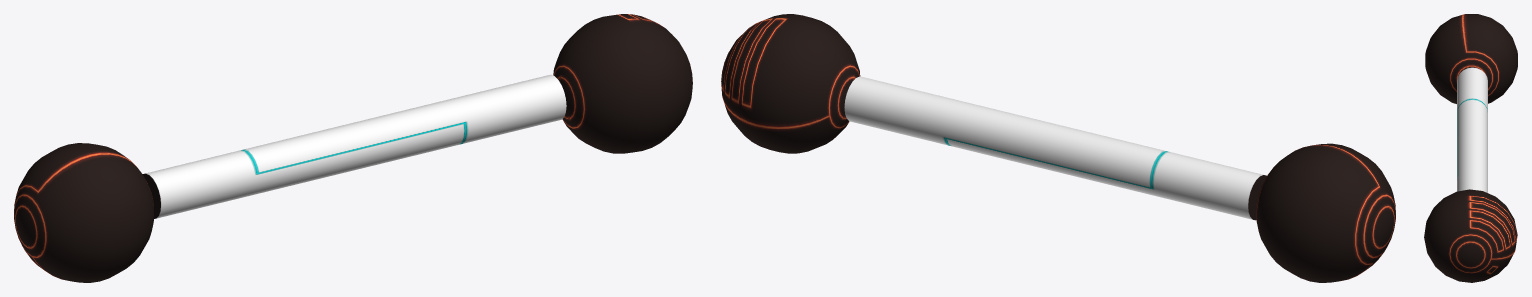
The model's file is Player.fbx.
The picture shows the model from 3 angles, left to right: view 1: azimuth 30°, elevation 25°; view 2: azimuth 150°, elevation 25°; view 3: azimuth 270°, elevation 25°; orthographic projection. The views are drawn at different scales.
Visible parts, largest first — view 1: polySurface2; view 2: polySurface2; view 3: polySurface2.
Boxes of the visible parts, box(x1,y1,x2,y2) form: polySurface2: box(14, 14, 692, 282); polySurface2: box(721, 14, 1395, 282); polySurface2: box(1424, 14, 1517, 282).
Size of the model in its own units: 3.9 by 0.7251 by 0.722.
1 material, 1 textured.
